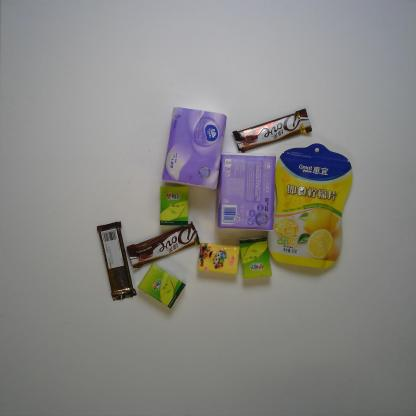Chocolate: (231, 106, 313, 155), (125, 220, 202, 271), (96, 219, 137, 302)
Dried Fruit: (267, 141, 354, 272)
Tissue: (160, 105, 229, 191), (214, 150, 278, 234), (136, 260, 188, 310), (237, 232, 274, 282), (197, 241, 242, 278), (158, 185, 191, 227)
